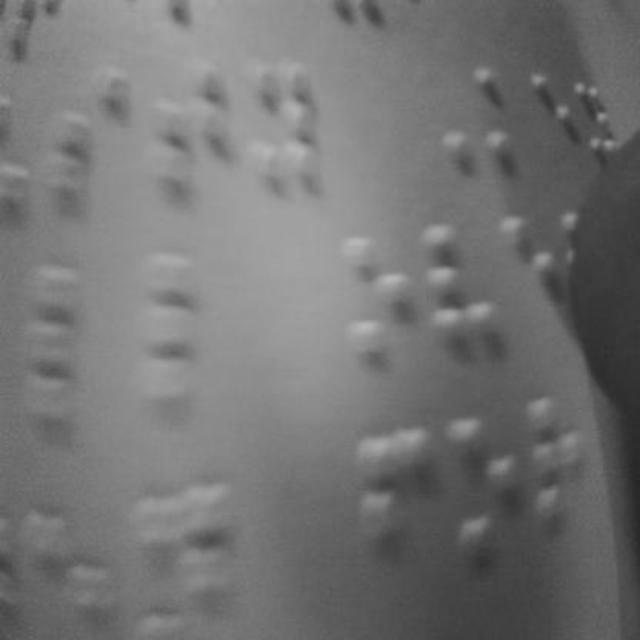braiile: (353, 420, 431, 576), (340, 222, 416, 368), (444, 405, 514, 563), (424, 215, 498, 347), (528, 388, 592, 528), (248, 52, 316, 178)
